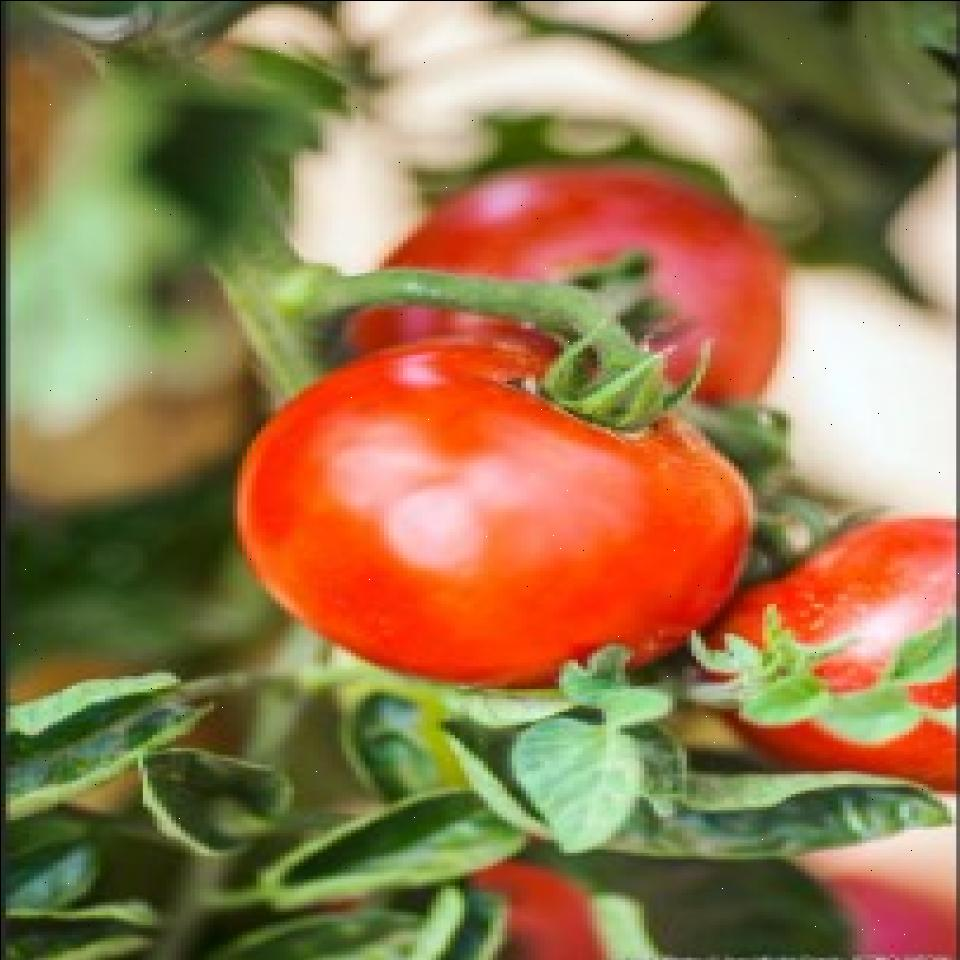Healthy: (248, 330, 746, 687), (367, 165, 823, 395), (694, 496, 954, 770)
